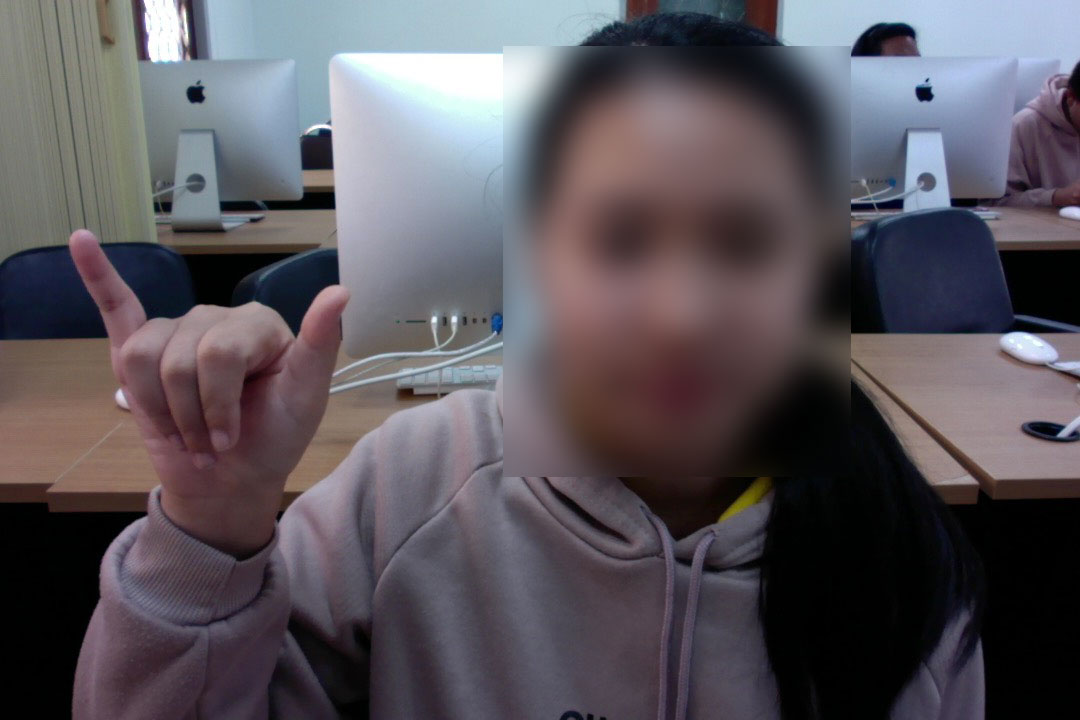yor: (58, 228, 356, 534)
